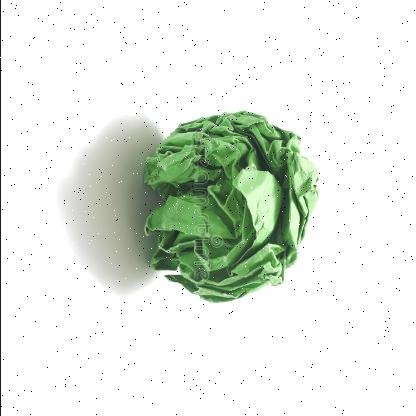Others: (141, 109, 319, 304)
